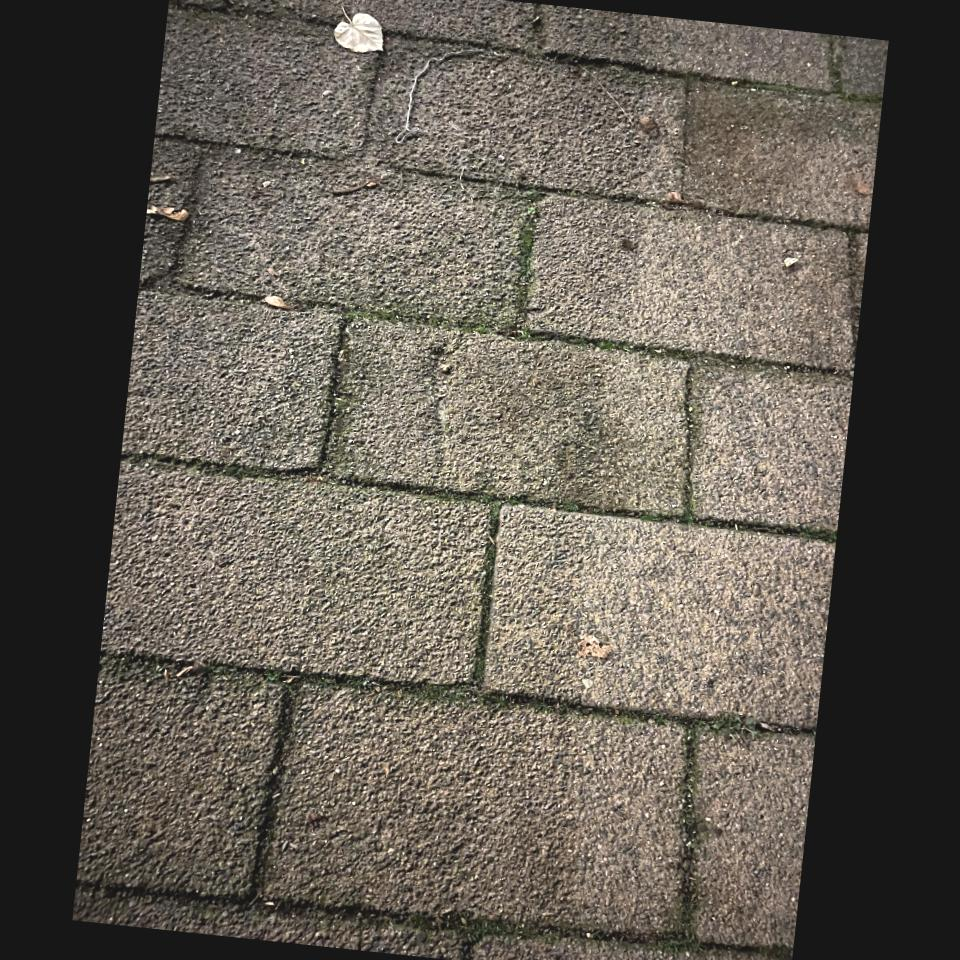weed: (348, 299, 692, 359), (385, 681, 726, 728), (612, 510, 836, 547), (381, 481, 612, 515), (515, 189, 541, 329), (293, 672, 379, 694)
